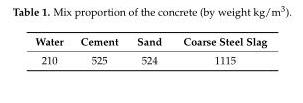table: (34, 34, 266, 66)
table column: (171, 34, 266, 66), (71, 34, 126, 66), (126, 34, 171, 66), (34, 34, 71, 66)
table column header: (34, 34, 266, 50)
table row: (34, 34, 266, 50), (34, 50, 266, 66)
